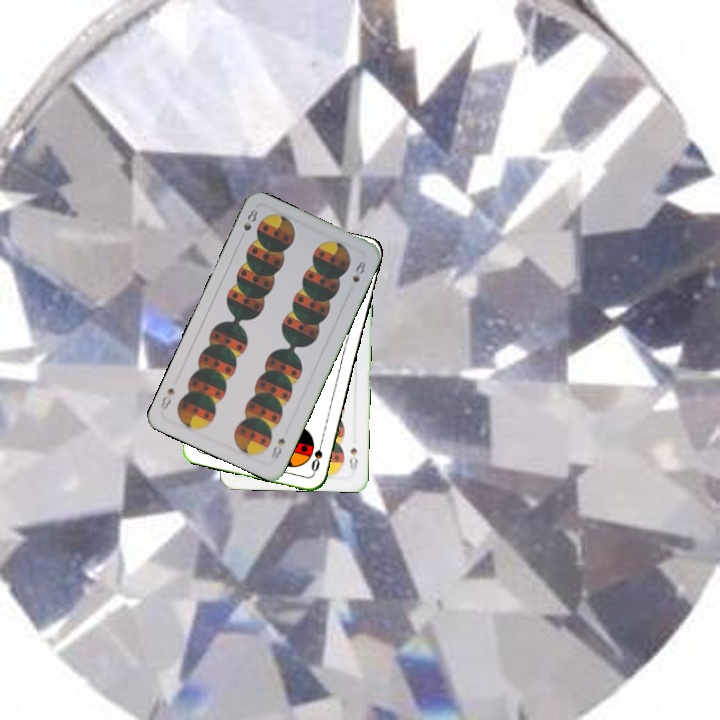S8: (236, 205, 260, 243), (267, 434, 288, 463), (345, 443, 360, 474)
SO: (307, 436, 326, 476)
